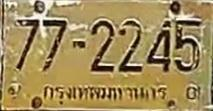2: (118, 19, 142, 71), (90, 20, 114, 70)
4: (146, 20, 170, 71)
5: (174, 19, 200, 71)
7: (42, 19, 66, 70), (15, 18, 38, 69)
BKK: (40, 81, 168, 104)
